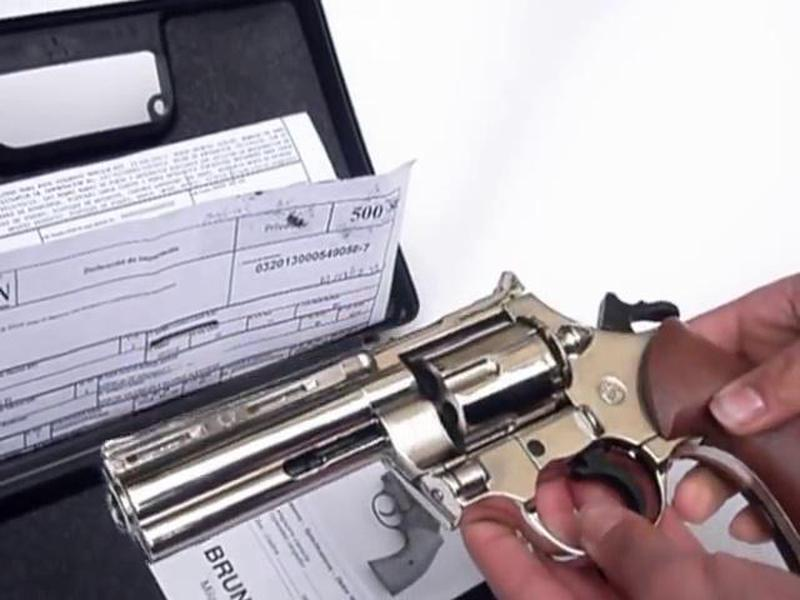Revolver: (84, 234, 800, 570)
